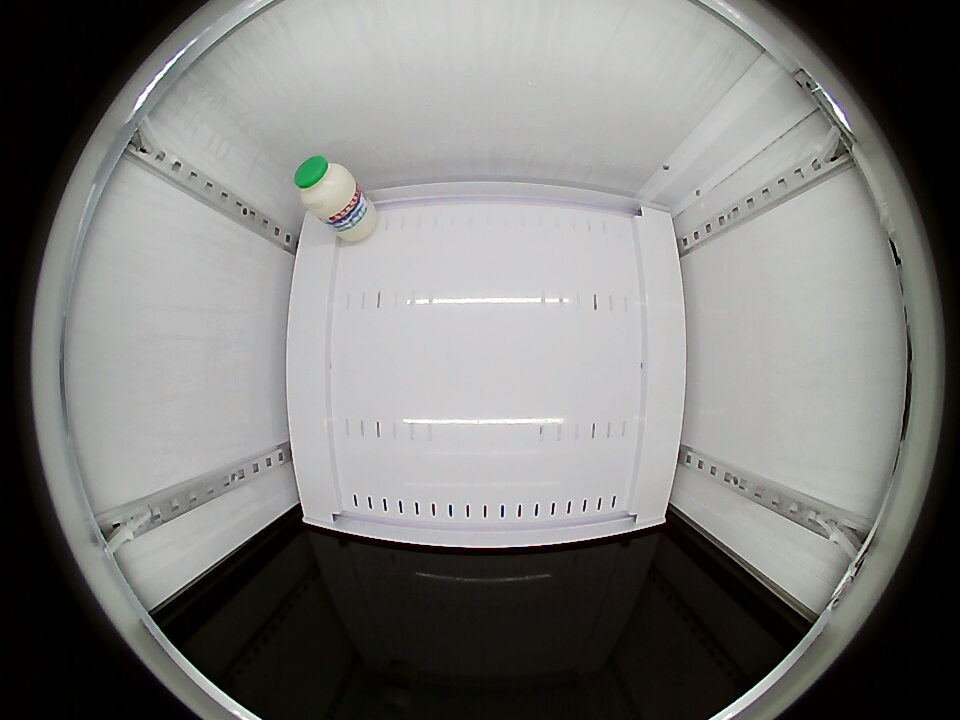liziyuan: (294, 155, 358, 220)
